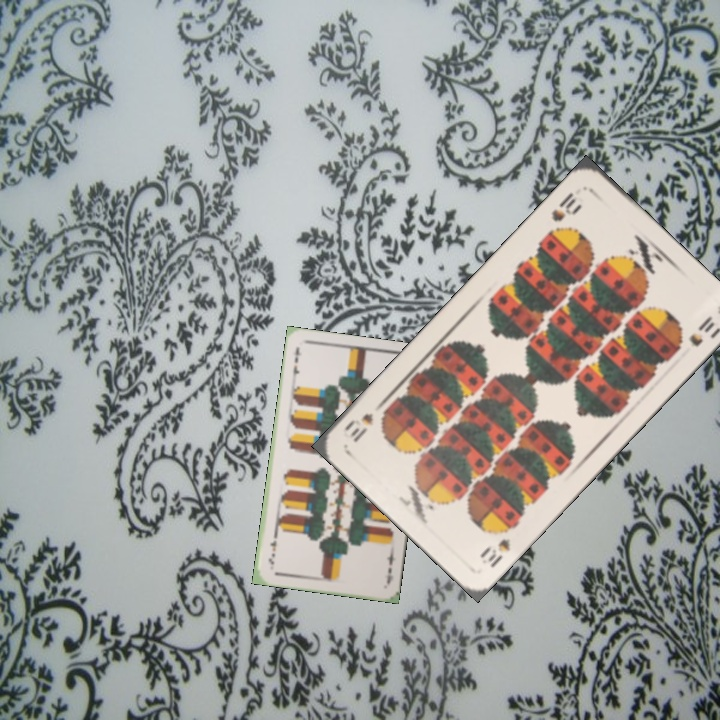E7: (382, 545, 397, 586), (288, 342, 302, 383)
S10: (475, 521, 519, 571), (547, 188, 584, 225)
